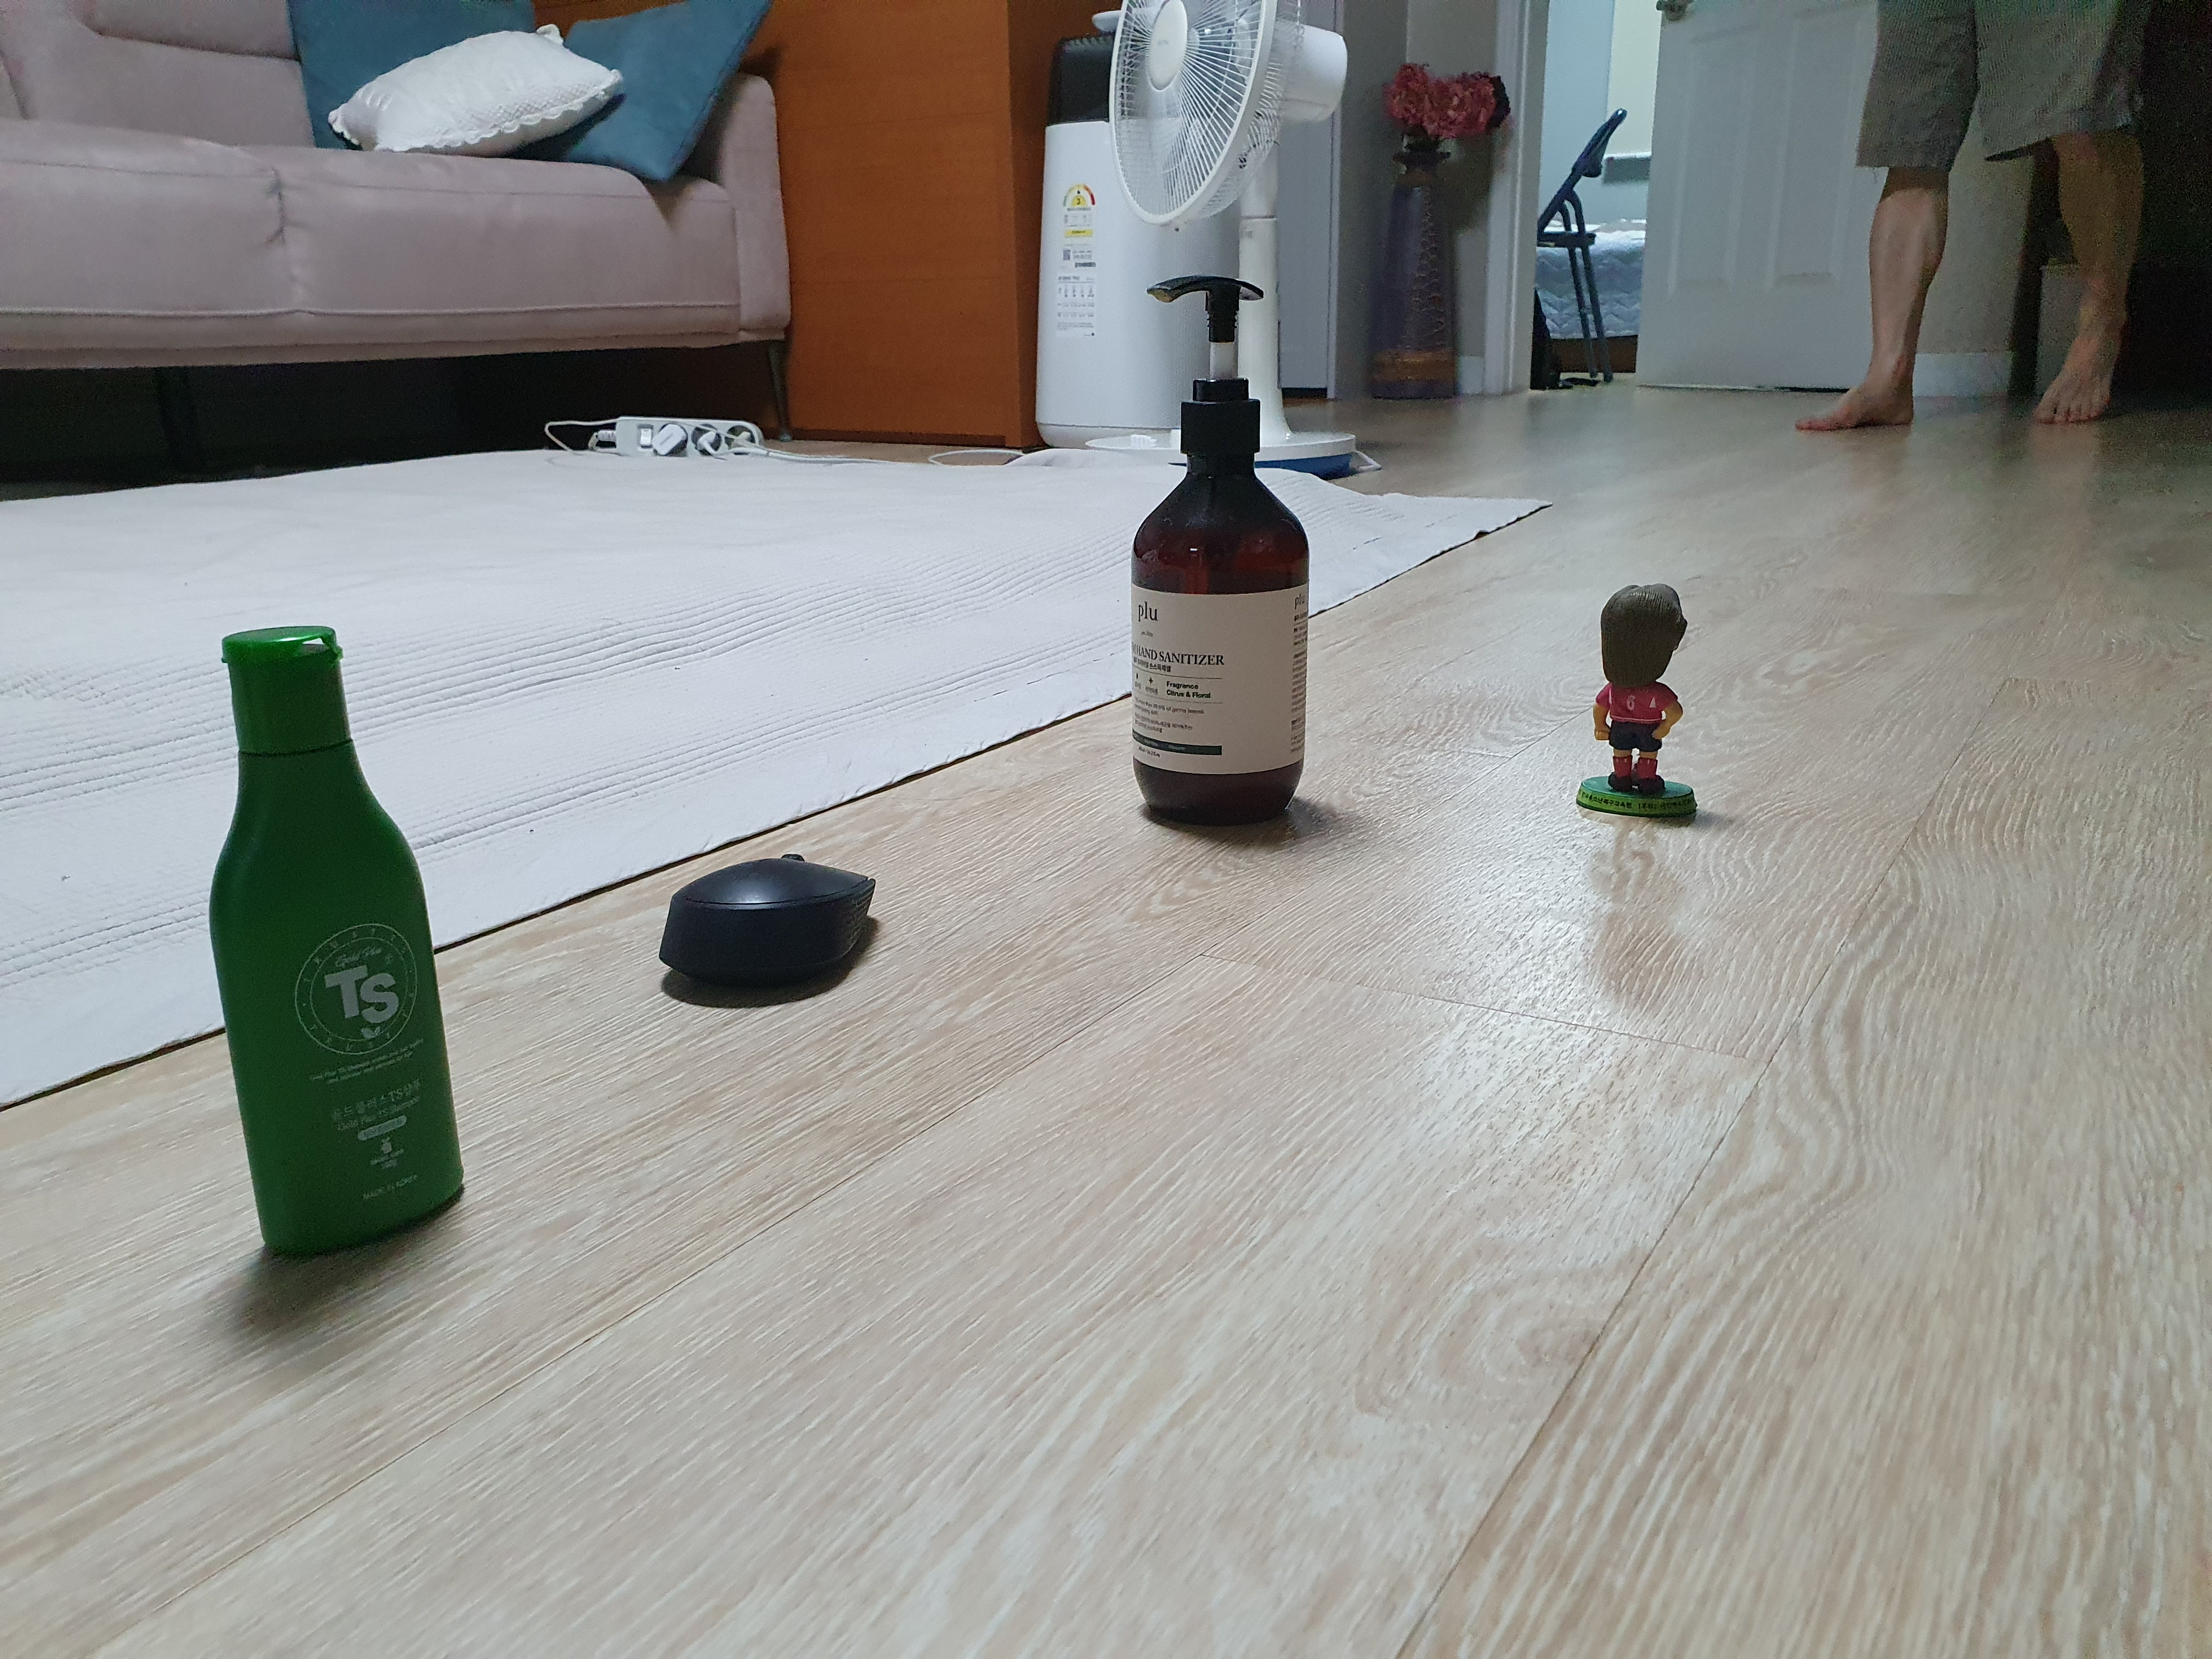bottle: (1104, 261, 1372, 880)
mouse: (632, 826, 977, 1039)
shampoo: (183, 629, 561, 1284)
yoo: (1571, 540, 1733, 852)
